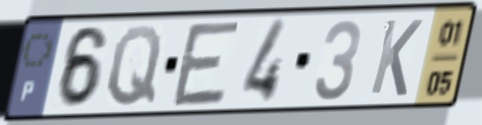3: (313, 17, 364, 103)
4: (237, 15, 290, 108)
6: (50, 24, 115, 112)
E: (168, 17, 245, 111)
K: (366, 16, 426, 99)
Q: (104, 23, 165, 110)
